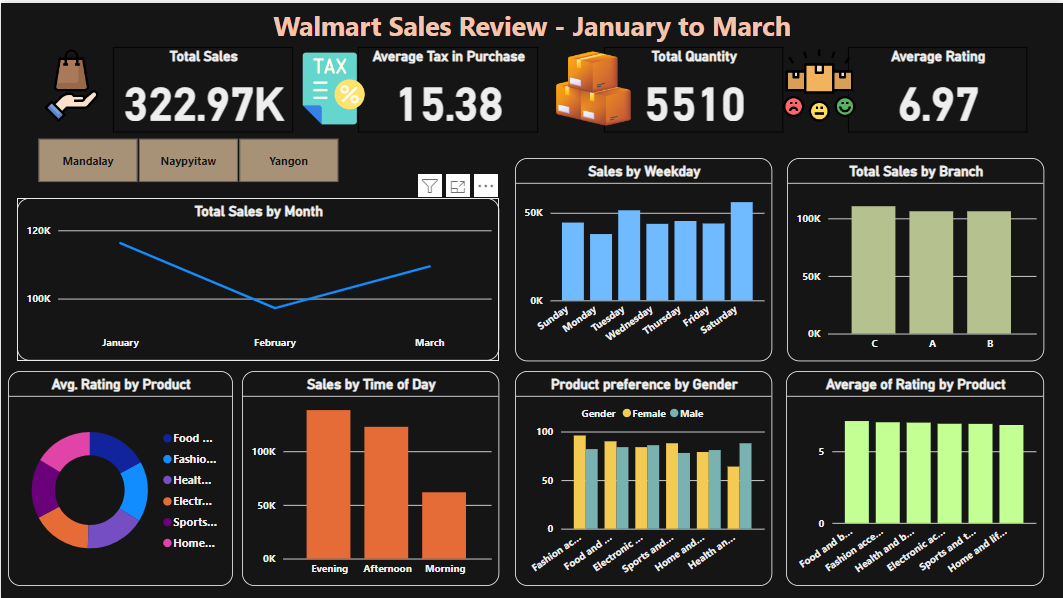

The page's visual inventory and layout, read from the dashboard file:
{"tool":"powerbi","page":{"name":"Page 1","canvas":[1280,720],"ordinal":0},"visuals":[{"type":"columnChart","title":"Average of Rating by Product","fields":{"Category":["Sheet1.Product_line"],"Y":["Avg(Sheet1.Rating)"]},"box":[945.8,443.4,310.8,259],"z":0},{"type":"card","title":"Total Sales","fields":{"Values":["Sum(Sheet1.Total)"]},"box":[134.9,53,216.8,103.4],"z":1000,"group":"g1"},{"type":"card","title":"Total Quantity","fields":{"Values":["Sum(Sheet1.Quantity)"]},"box":[726,53,215.6,103.4],"z":2000,"group":"g1"},{"type":"card","title":"Average Rating","fields":{"Values":["Avg(Sheet1.Rating)"]},"box":[1020.3,53,215.6,103.4],"z":3000,"group":"g1"},{"type":"clusteredColumnChart","title":"Product preference by Gender","fields":{"Category":["Sheet1.Product_line"],"Series":["Sheet1.Gender"],"Y":["CountNonNull(Sheet1.Gender)"]},"box":[619.3,443.4,309.6,259],"z":4000},{"type":"columnChart","title":"Sales by Time of Day","fields":{"Category":["Sheet1.time_of_day"],"Y":["Sum(Sheet1.Total)"]},"box":[290.4,443.4,309.6,259],"z":5000},{"type":"columnChart","title":"Sales by Weekday","fields":{"Category":["Sheet1.day_name"],"Y":["Sum(Sheet1.Total)"]},"box":[619.3,186.7,309.6,244.6],"z":6000},{"type":"lineChart","title":"Total Sales by Month","fields":{"Y":["Sum(Sheet1.Total)"],"Category":["Sheet1.month_name"]},"box":[19.3,234.9,580.7,196.4],"z":6001},{"type":"card","title":"Average Tax in Purchase","fields":{"Values":["Avg(Sheet1.Tax_5)"]},"box":[430.4,53,216.8,103.4],"z":6002,"group":"g1"},{"type":"columnChart","title":"Total Sales by Branch","fields":{"Y":["Sum(Sheet1.Total)"],"Category":["Sheet1.Branch"]},"box":[947,186.7,309.6,244.6],"z":6003},{"type":"donutChart","title":"Avg. Rating by Product","fields":{"Y":["Avg(Sheet1.Rating)"],"Category":["Sheet1.Product_line"]},"box":[8.4,443.4,271.1,259],"z":6004},{"type":"slicer","fields":{"Values":["Sheet1.City"]},"box":[19.3,156.6,410.8,66.3],"z":6005},{"type":"group","id":"g1","title":"Group 1","box":[134.9,53,1101.2,103.6],"z":6006},{"type":"image","box":[351.8,53,100,100],"z":6008},{"type":"image","box":[663.9,53,100,100],"z":6009},{"type":"image","box":[928.9,49.4,113.3,100],"z":6010},{"type":"image","box":[34.9,49.4,100,100],"z":6011},{"type":"textbox","box":[0,0,1279.5,53],"z":6012}]}

Visuals, with their boxes in screenshot pixels (x1, y1, x2, y2), scaled from the page's 1280x720 canvas onto the 1063x598 screenshot:
"Average of Rating by Product" columnChart: [785,368,1044,583]
"Total Sales" card: [112,44,292,130]
"Total Quantity" card: [603,44,782,130]
"Average Rating" card: [847,44,1026,130]
"Product preference by Gender" clusteredColumnChart: [514,368,771,583]
"Sales by Time of Day" columnChart: [241,368,498,583]
"Sales by Weekday" columnChart: [514,155,771,358]
"Total Sales by Month" lineChart: [16,195,498,358]
"Average Tax in Purchase" card: [357,44,537,130]
"Total Sales by Branch" columnChart: [786,155,1044,358]
"Avg. Rating by Product" donutChart: [7,368,232,583]
slicer - Sheet1.City: [16,130,357,185]
"Group 1" group: [112,44,1027,130]
image: [292,44,375,127]
image: [551,44,634,127]
image: [771,41,866,124]
image: [29,41,112,124]
textbox: [0,0,1062,44]
